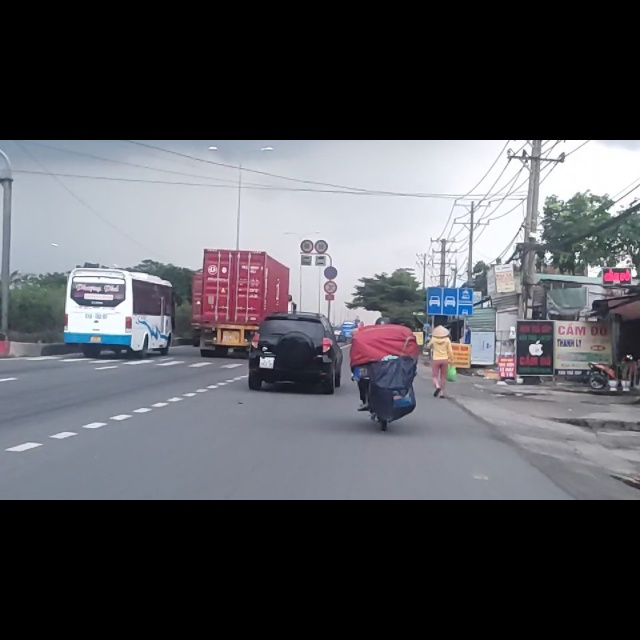bien_cam: (427, 262, 474, 312), (323, 223, 338, 249), (315, 178, 328, 203), (324, 250, 337, 274), (301, 177, 313, 200)
